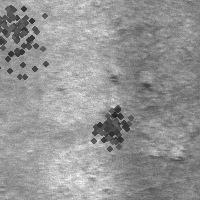rolled-in_scale: (106, 71, 197, 168), (0, 0, 67, 97), (82, 96, 142, 156), (0, 0, 45, 57)
